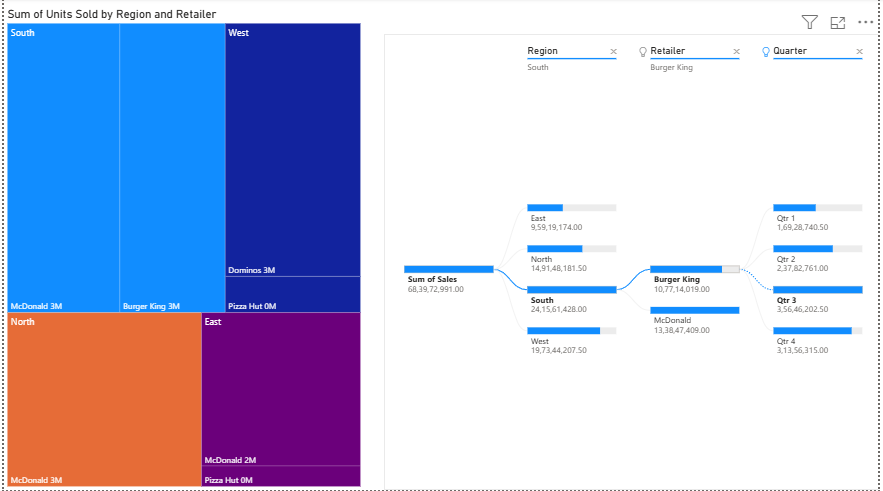

What the dashboard file says about the page in this screenshot:
{"tool":"powerbi","page":{"name":"Page 4","canvas":[1280,720],"ordinal":3},"visuals":[{"type":"treemap","fields":{"Details":["BV India.Retailer"],"Group":["BV India.Region"],"Values":["Sum(BV India.Units Sold)"]},"box":[0,13.3,526.7,706.7],"z":0},{"type":"decompositionTreeVisual","fields":{"Analyze":["Sum(BV India.Sales)"],"ExplainBy":["BV India.Region","BV India.Retailer","BV India.Date.Variation.Date Hierarchy.Quarter"]},"box":[556.7,53.3,723.3,666.7],"z":1000}]}

Visuals, with their boxes in screenshot pixels (x1, y1, x2, y2), scaled from the page's 1280x720 canvas onto the 883x491 screenshot:
treemap - BV India.Retailer x BV India.Region: crop(0, 9, 363, 490)
decompositionTreeVisual - Sum(BV India.Sales) x BV India.Region: crop(384, 36, 882, 490)
